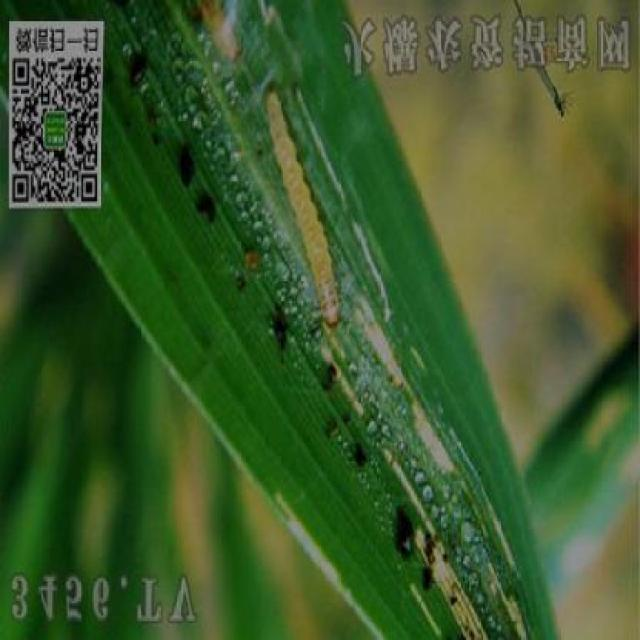leaf-folder: (252, 68, 351, 343)
